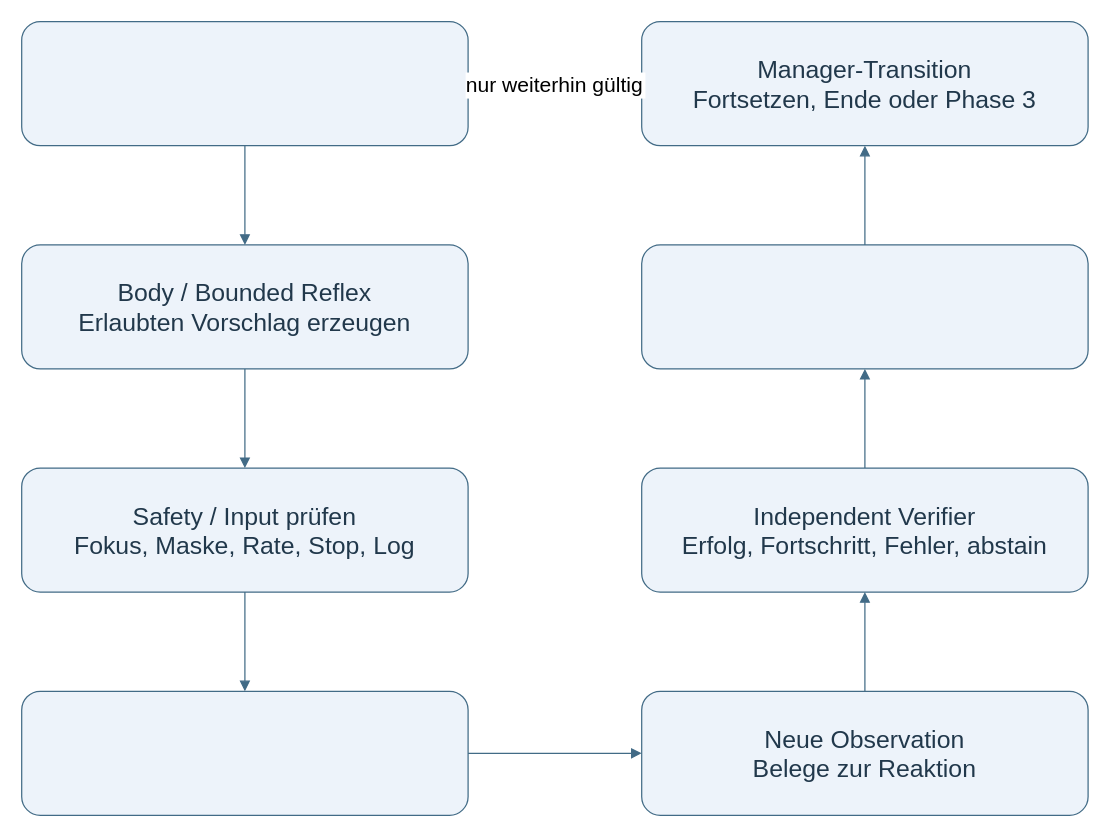
Some shapes in this 1110 by 837 pixel diagram are drawn without their labels. Here are the shapes that lost their labels. From the top down, the centre of each, then its label:
At (244,83): "Derselbe aktive Contract Grenzen bleiben gültig".
At (864,306): "VerifierResult Ergebnis mit Belegreferenzen".
At (244,752): "GameInstance Sichtbare Umgebungsreaktion".
